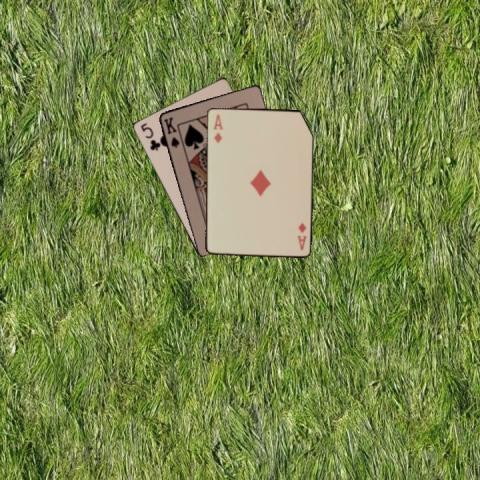5c: (137, 120, 161, 152)
Ad: (210, 111, 224, 144), (294, 220, 307, 252)
Ks: (161, 114, 180, 149)
